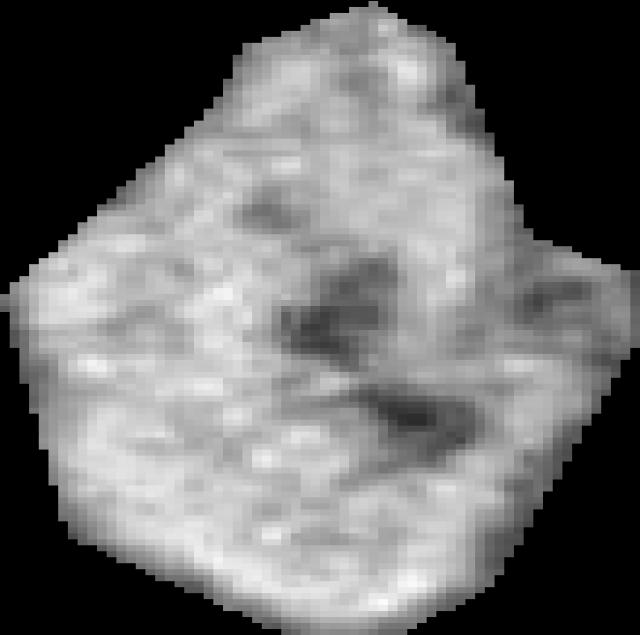tumor_good_chance: (0, 1, 640, 635)
